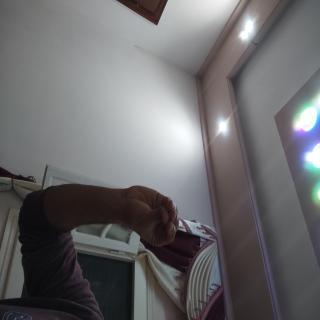HA: (134, 182, 190, 272)
